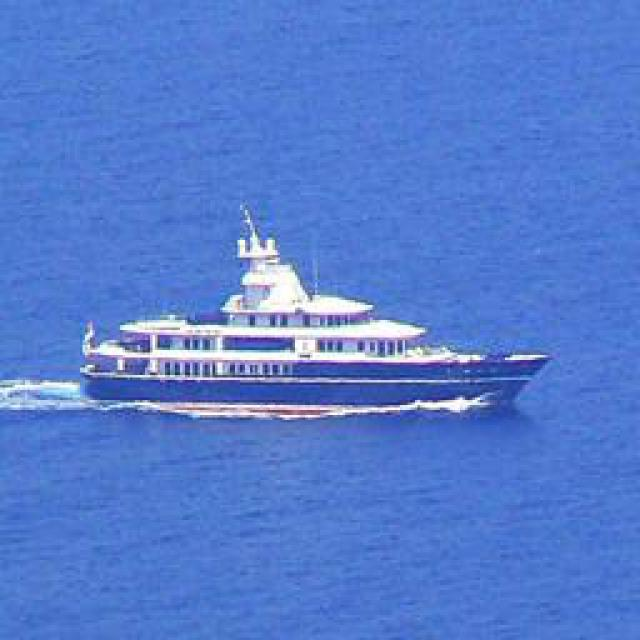Ship: (72, 200, 552, 418)
